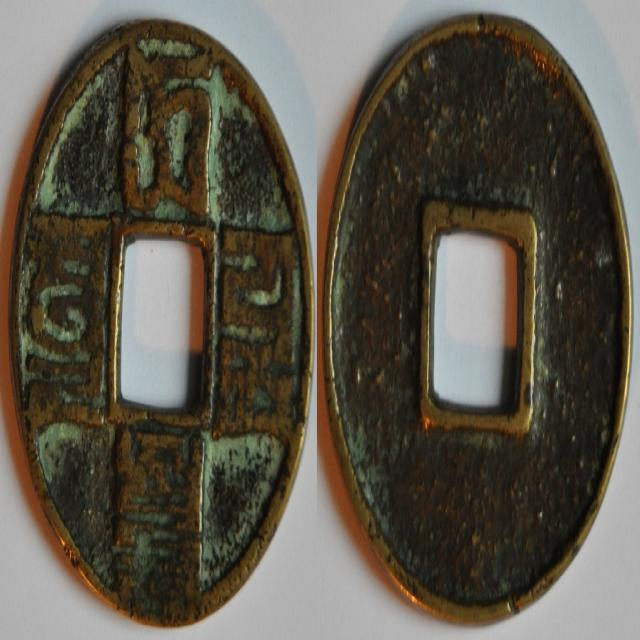Coin: (321, 13, 633, 628), (3, 16, 315, 630)
